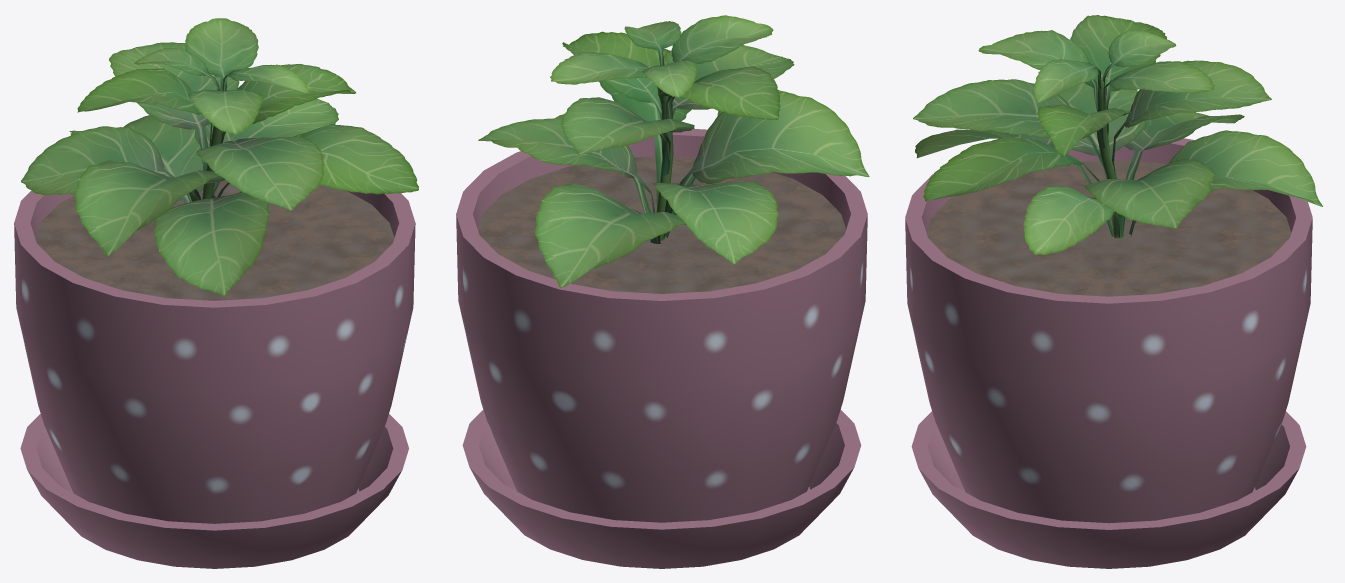
Rendered from Basil_B_002_plant_0.fbx.
The picture shows the model from 3 angles, left to right: view 1: azimuth 30°, elevation 25°; view 2: azimuth 150°, elevation 25°; view 3: azimuth 270°, elevation 25°; orthographic projection. The views are drawn at different scales.
Parts seen in each view (by area): view 1: Basil_B.002_plant_0; view 2: Basil_B.002_plant_0; view 3: Basil_B.002_plant_0.
Part boxes in pixels (left/top/right/bottom): Basil_B.002_plant_0: left=14, top=18, right=418, bottom=568; Basil_B.002_plant_0: left=456, top=15, right=869, bottom=568; Basil_B.002_plant_0: left=905, top=15, right=1322, bottom=568.
Bounding box in the file's own units: 52.54 × 64.16 × 54.86.
